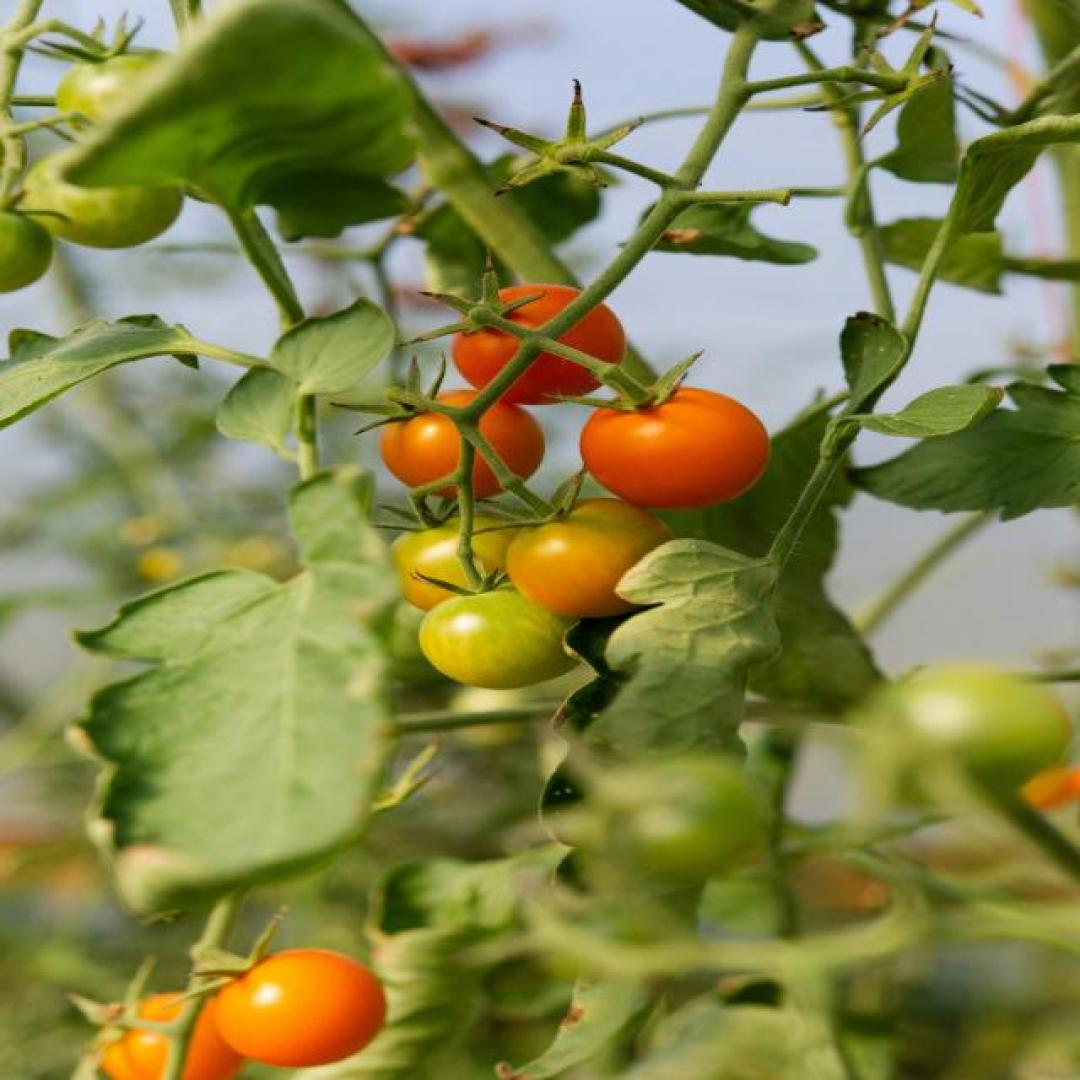matang: (452, 284, 628, 402)
mentah: (415, 582, 586, 690)
setengah_matang: (578, 390, 774, 514), (504, 498, 678, 618), (214, 948, 390, 1066), (376, 392, 547, 499)
